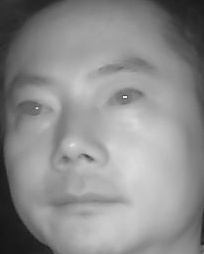eye: (11, 95, 53, 121), (102, 86, 146, 110)
mouth: (43, 181, 126, 221)
